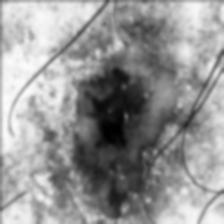Potentially Malignant Skin Tumors: (54, 50, 180, 208)
